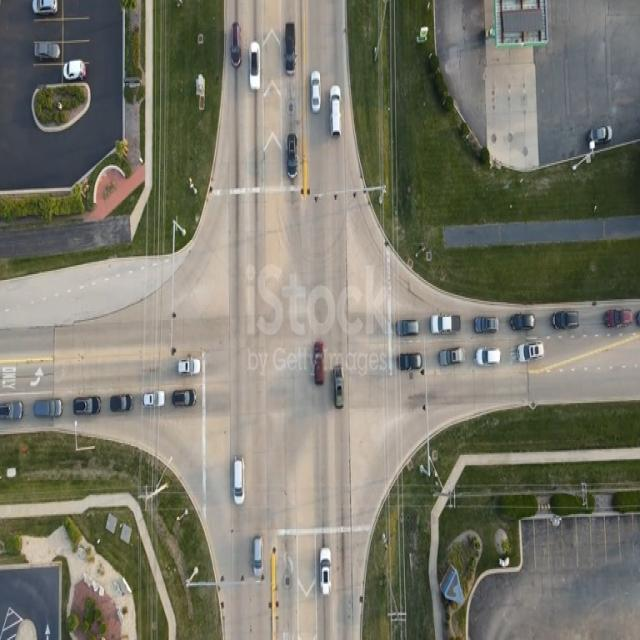car: (283, 24, 295, 76), (328, 88, 340, 137), (33, 398, 62, 418), (238, 454, 250, 502), (604, 308, 632, 328), (68, 400, 96, 420), (286, 134, 298, 180), (234, 460, 246, 506), (517, 344, 544, 364), (75, 396, 102, 416), (588, 126, 612, 148), (552, 312, 578, 332), (249, 43, 260, 90), (320, 550, 331, 596), (0, 403, 24, 424), (314, 342, 325, 386), (398, 353, 422, 373), (511, 313, 536, 332), (231, 25, 242, 68), (252, 536, 263, 578), (112, 396, 136, 415), (64, 60, 86, 80), (477, 349, 501, 367), (475, 316, 499, 334), (336, 368, 346, 410), (396, 320, 419, 338), (441, 349, 464, 367), (311, 72, 321, 113), (172, 390, 194, 408), (177, 359, 200, 376), (33, 0, 58, 15), (143, 391, 165, 407)
pickup-truck: (34, 40, 61, 60)
